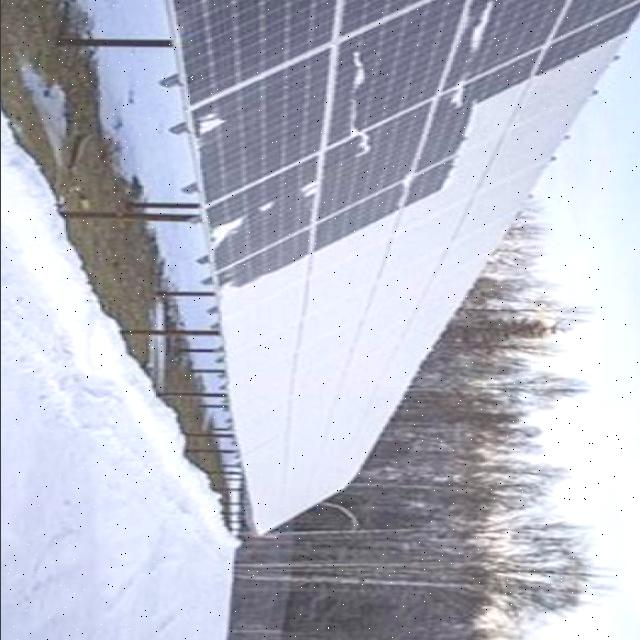Anomaly Solar Panel: (171, 0, 640, 537)
Snow: (219, 35, 627, 538)
